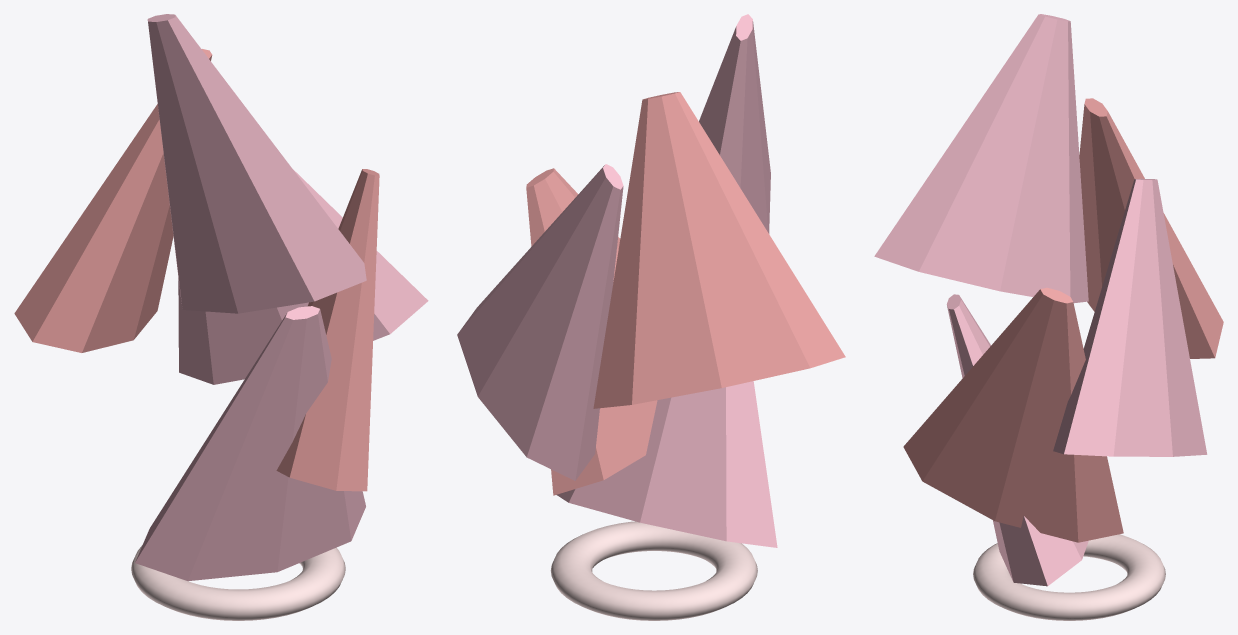
Rendered from sakura-petal-bundle.glb.
The picture shows the model from 3 angles, left to right: view 1: azimuth 30°, elevation 25°; view 2: azimuth 150°, elevation 25°; view 3: azimuth 270°, elevation 25°; orthographic projection. The views are drawn at different scales.
Parts seen in each view (by area): view 1: sakura_Petal_4, sakura_Petal_0, sakura_Petal_3, sakura_Petal_1, sakura_Petal_2, sakura_Tie; view 2: sakura_Petal_3, sakura_Petal_2, sakura_Petal_0, sakura_Tie, sakura_Petal_4, sakura_Petal_1; view 3: sakura_Petal_4, sakura_Petal_1, sakura_Petal_2, sakura_Petal_3, sakura_Tie, sakura_Petal_0.
Part boxes in pixels (x1,y1,x2,y2): sakura_Petal_4: [147, 14, 366, 313]; sakura_Petal_0: [135, 306, 365, 581]; sakura_Petal_3: [14, 49, 212, 352]; sakura_Petal_1: [276, 169, 379, 491]; sakura_Petal_2: [178, 169, 428, 384]; sakura_Tie: [131, 545, 345, 620]; sakura_Petal_3: [593, 92, 845, 408]; sakura_Petal_2: [457, 164, 623, 480]; sakura_Petal_0: [556, 381, 777, 547]; sakura_Tie: [550, 521, 757, 620]; sakura_Petal_4: [699, 14, 770, 233]; sakura_Petal_1: [526, 168, 657, 495]; sakura_Petal_4: [874, 14, 1088, 303]; sakura_Petal_1: [903, 287, 1123, 542]; sakura_Petal_2: [1053, 178, 1207, 456]; sakura_Petal_3: [1079, 98, 1223, 358]; sakura_Tie: [973, 534, 1165, 620]; sakura_Petal_0: [946, 294, 1088, 586].
Size of what is drawn, in the model's own units: 0.2356 by 0.3451 by 0.2039.
